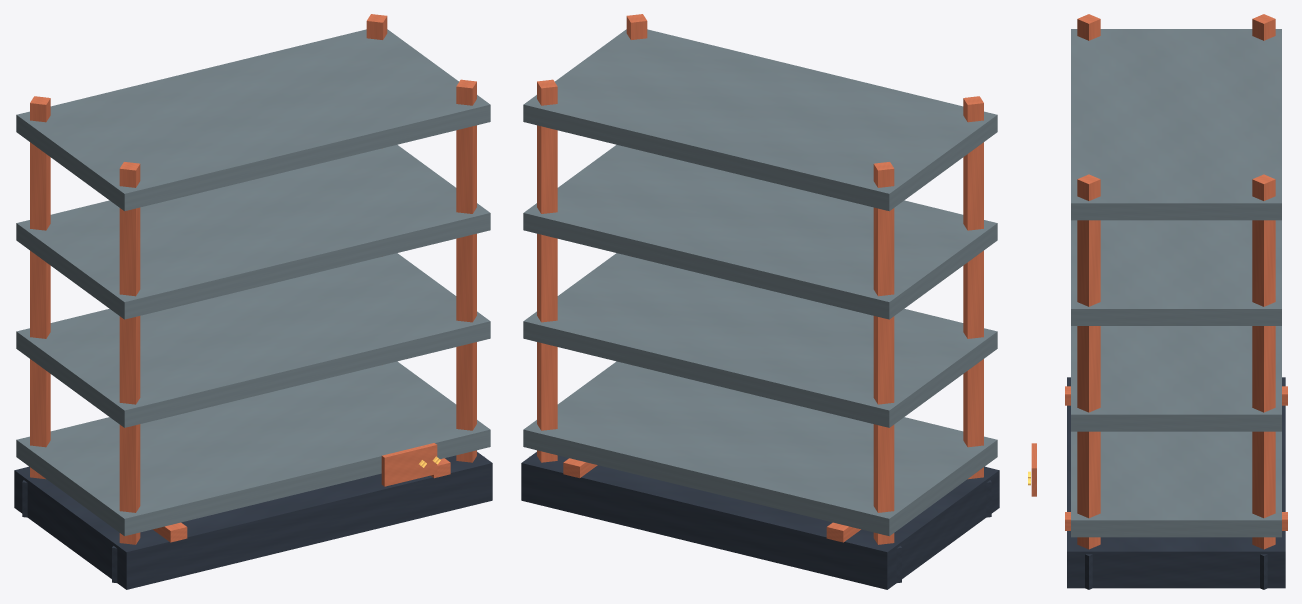
File: atlas100-s026-a06.lod1.glb
3 renders of one model, left to right at view 1: azimuth 30°, elevation 25°; view 2: azimuth 150°, elevation 25°; view 3: azimuth 270°, elevation 25°, orthographic. The views are drawn at different scales.
Visible parts, largest first — view 1: atlas100-s026-a06:part-014, atlas100-s026-a06:part-013, atlas100-s026-a06:part-012, atlas100-s026-a06:part-011, atlas100-s026-a06:part-000, atlas100-s026-a06:part-005, atlas100-s026-a06:part-009, atlas100-s026-a06:part-003, atlas100-s026-a06:part-015; view 2: atlas100-s026-a06:part-014, atlas100-s026-a06:part-011, atlas100-s026-a06:part-013, atlas100-s026-a06:part-012, atlas100-s026-a06:part-000, atlas100-s026-a06:part-003, atlas100-s026-a06:part-007, atlas100-s026-a06:part-005; view 3: atlas100-s026-a06:part-014, atlas100-s026-a06:part-011, atlas100-s026-a06:part-012, atlas100-s026-a06:part-013, atlas100-s026-a06:part-000, atlas100-s026-a06:part-009, atlas100-s026-a06:part-007, atlas100-s026-a06:part-003, atlas100-s026-a06:part-005.
Part boxes in pixels (left/top/right/bottom): atlas100-s026-a06:part-014: left=16, top=29, right=490, bottom=211; atlas100-s026-a06:part-013: left=16, top=144, right=490, bottom=319; atlas100-s026-a06:part-012: left=16, top=253, right=490, bottom=427; atlas100-s026-a06:part-011: left=16, top=361, right=490, bottom=536; atlas100-s026-a06:part-000: left=14, top=452, right=492, bottom=589; atlas100-s026-a06:part-005: left=119, top=162, right=140, bottom=544; atlas100-s026-a06:part-009: left=456, top=79, right=476, bottom=462; atlas100-s026-a06:part-003: left=30, top=96, right=50, bottom=479; atlas100-s026-a06:part-015: left=381, top=443, right=437, bottom=486; atlas100-s026-a06:part-014: left=523, top=29, right=997, bottom=211; atlas100-s026-a06:part-011: left=523, top=361, right=997, bottom=536; atlas100-s026-a06:part-013: left=523, top=144, right=997, bottom=319; atlas100-s026-a06:part-012: left=523, top=253, right=997, bottom=427; atlas100-s026-a06:part-000: left=521, top=452, right=999, bottom=589; atlas100-s026-a06:part-003: left=873, top=162, right=894, bottom=544; atlas100-s026-a06:part-007: left=537, top=79, right=557, bottom=462; atlas100-s026-a06:part-005: left=963, top=96, right=983, bottom=479; atlas100-s026-a06:part-014: left=1071, top=29, right=1281, bottom=220; atlas100-s026-a06:part-011: left=1071, top=431, right=1281, bottom=537; atlas100-s026-a06:part-012: left=1071, top=326, right=1281, bottom=431; atlas100-s026-a06:part-013: left=1071, top=220, right=1281, bottom=325; atlas100-s026-a06:part-000: left=1067, top=377, right=1285, bottom=588; atlas100-s026-a06:part-009: left=1077, top=174, right=1100, bottom=549; atlas100-s026-a06:part-007: left=1252, top=174, right=1275, bottom=549; atlas100-s026-a06:part-003: left=1252, top=14, right=1275, bottom=40; atlas100-s026-a06:part-005: left=1077, top=14, right=1100, bottom=40.
Bounding box in the file's own units: 2.69 × 2.84 × 1.66.
Materials: 4 (4 with a texture image).
